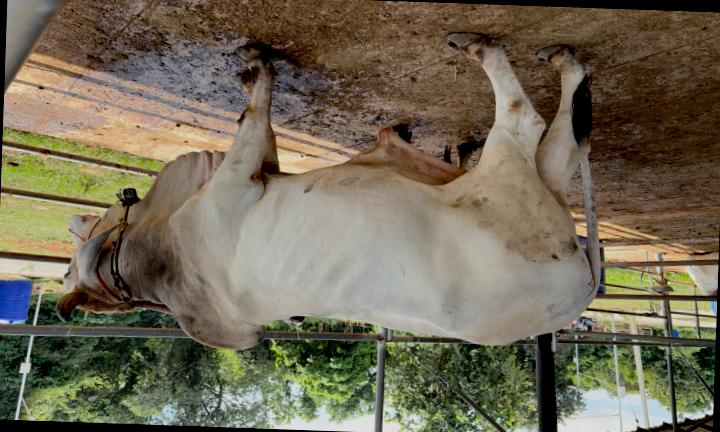Brahman: (56, 34, 599, 349)
